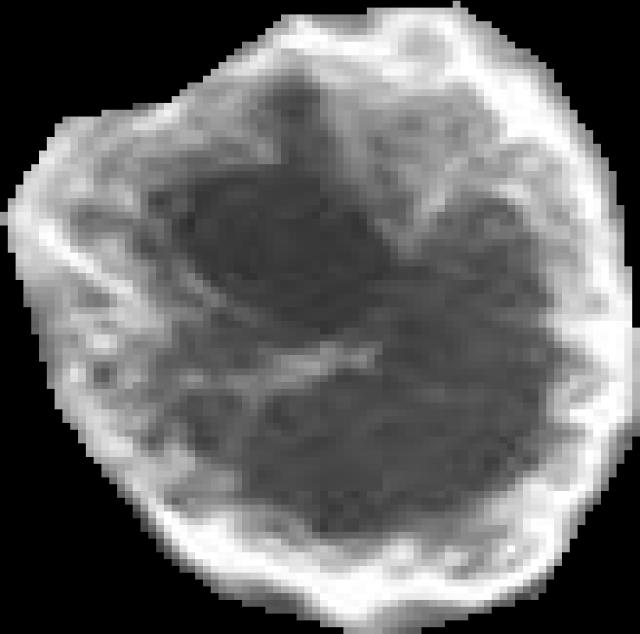tumor_good_chance: (0, 1, 640, 634)
